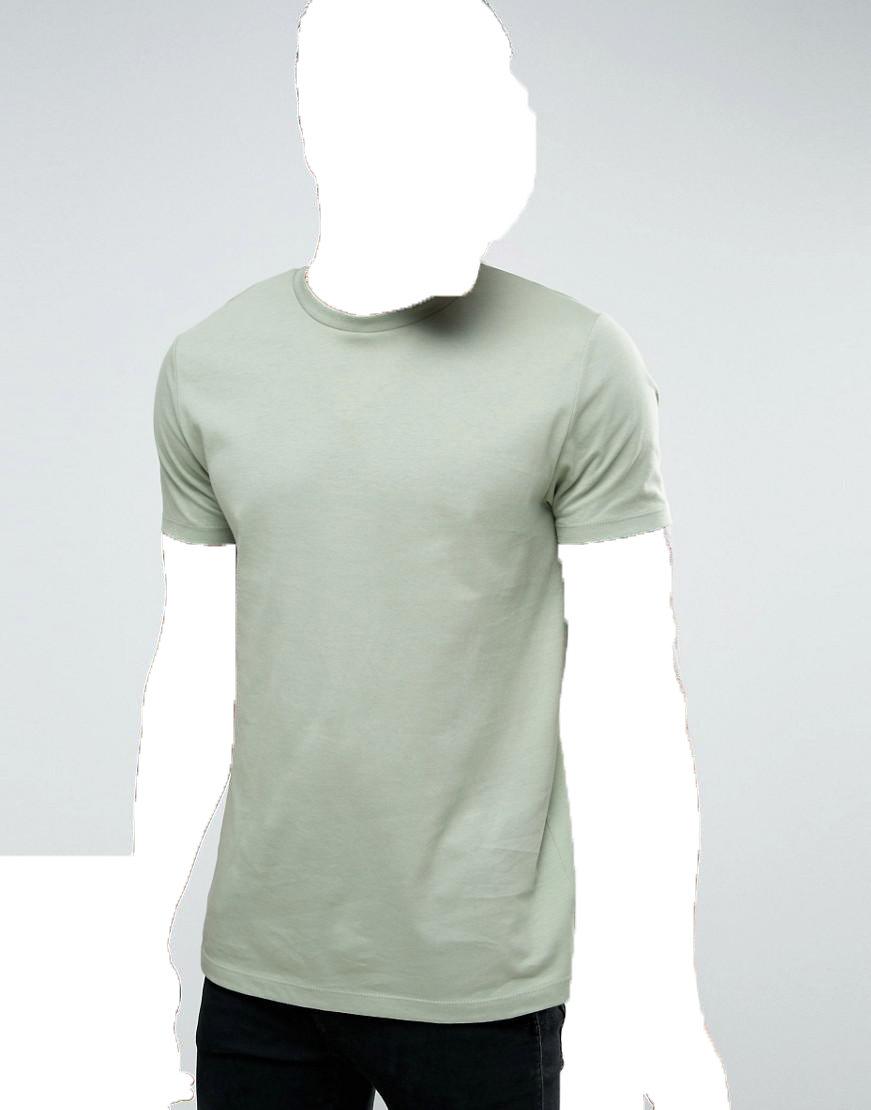teeshirt: (144, 264, 679, 1030)
